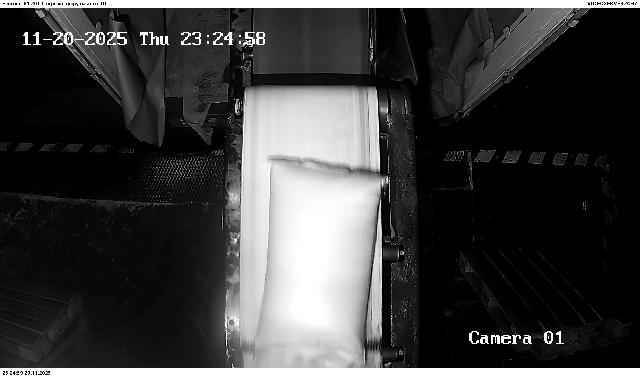bag: (254, 156, 389, 368)
